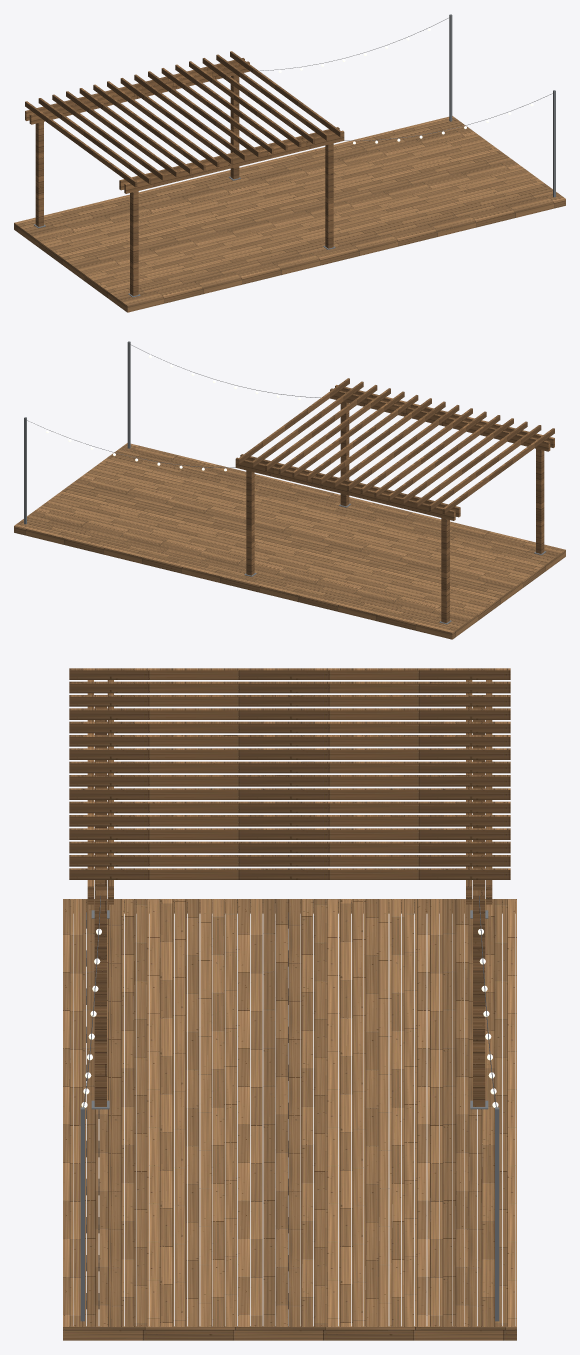
File: roof_deck.glb
3 views of the same model, one above another, from view 1: azimuth 30°, elevation 25°; view 2: azimuth 150°, elevation 25°; view 3: azimuth 270°, elevation 25° (orthographic). The views are drawn at different scales.
Parts seen in each view (by area): view 1: roof_deck_deck, roof_deck_timber, roof_deck_steel_d, roof_deck_dark; view 2: roof_deck_deck, roof_deck_timber, roof_deck_steel_d, roof_deck_dark; view 3: roof_deck_deck, roof_deck_timber, roof_deck_steel_d, roof_deck_dark.
Part boxes in pixels (x1,y1,x2,y2): roof_deck_deck: [14, 116, 565, 312]; roof_deck_timber: [25, 51, 344, 296]; roof_deck_steel_d: [33, 14, 555, 297]; roof_deck_dark: [260, 17, 553, 140]; roof_deck_deck: [14, 443, 565, 639]; roof_deck_timber: [235, 378, 554, 623]; roof_deck_steel_d: [24, 341, 546, 624]; roof_deck_dark: [27, 344, 320, 467]; roof_deck_deck: [63, 899, 516, 1340]; roof_deck_timber: [69, 668, 510, 1326]; roof_deck_steel_d: [80, 910, 499, 1321]; roof_deck_dark: [83, 895, 496, 1309].
Bounding box in the file's own units: 11.24 × 3.11 × 5.04.
Materials: 5 (2 with a texture image).
